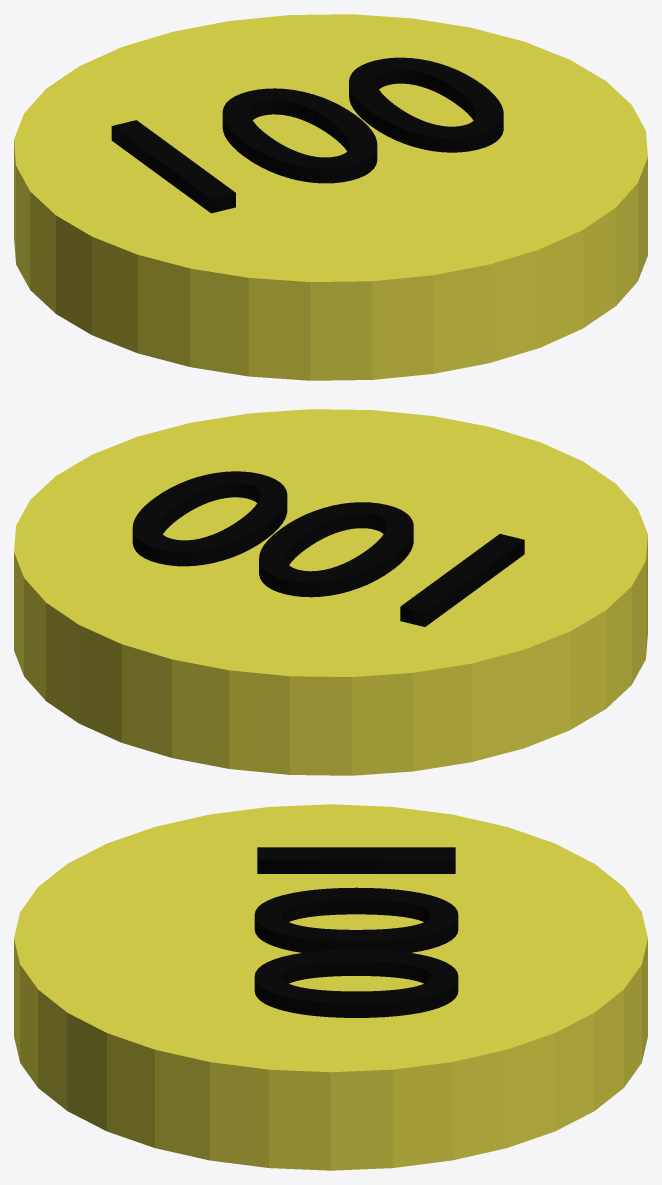
3 renders of one model, top to bottom at view 1: azimuth 30°, elevation 25°; view 2: azimuth 150°, elevation 25°; view 3: azimuth 270°, elevation 25°, orthographic.
Visible parts, largest first — view 1: 円柱, テキスト; view 2: 円柱, テキスト; view 3: 円柱, テキスト.
Boxes of the visible parts, <box> form: 円柱: <box>14,14,647,380</box>; テキスト: <box>111,57,503,213</box>; 円柱: <box>14,409,647,775</box>; テキスト: <box>132,471,524,626</box>; 円柱: <box>14,804,647,1170</box>; テキスト: <box>254,847,458,1017</box>.
Size of the model in its own units: 427 by 83.91 by 427.
